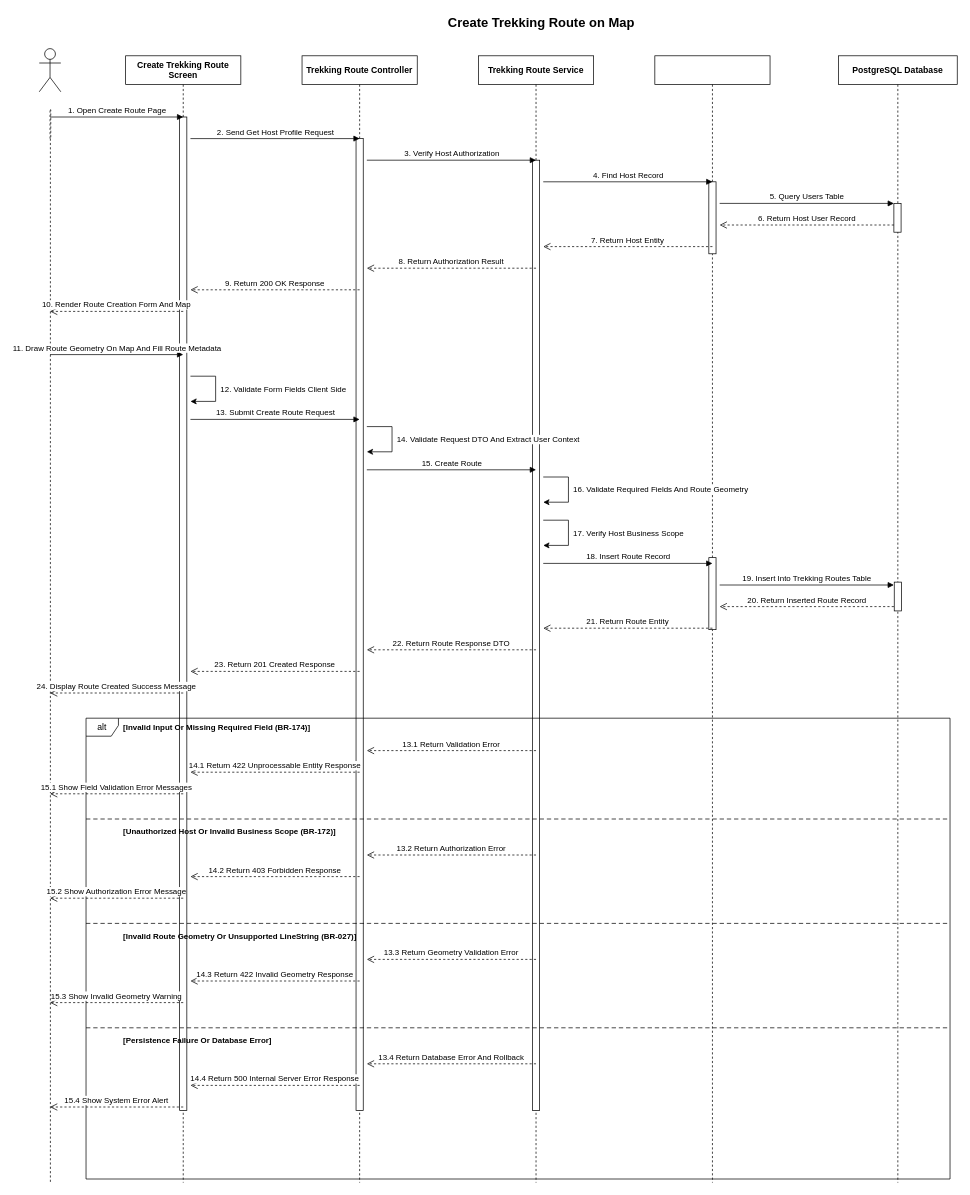
This 970x1195 diagram has some shape labels left out. The centre of each missing label's shape, as x and y in pixels:
"Host" belongs at (x=50, y=70).
"Trekking Route Model" belongs at (x=712, y=619).
